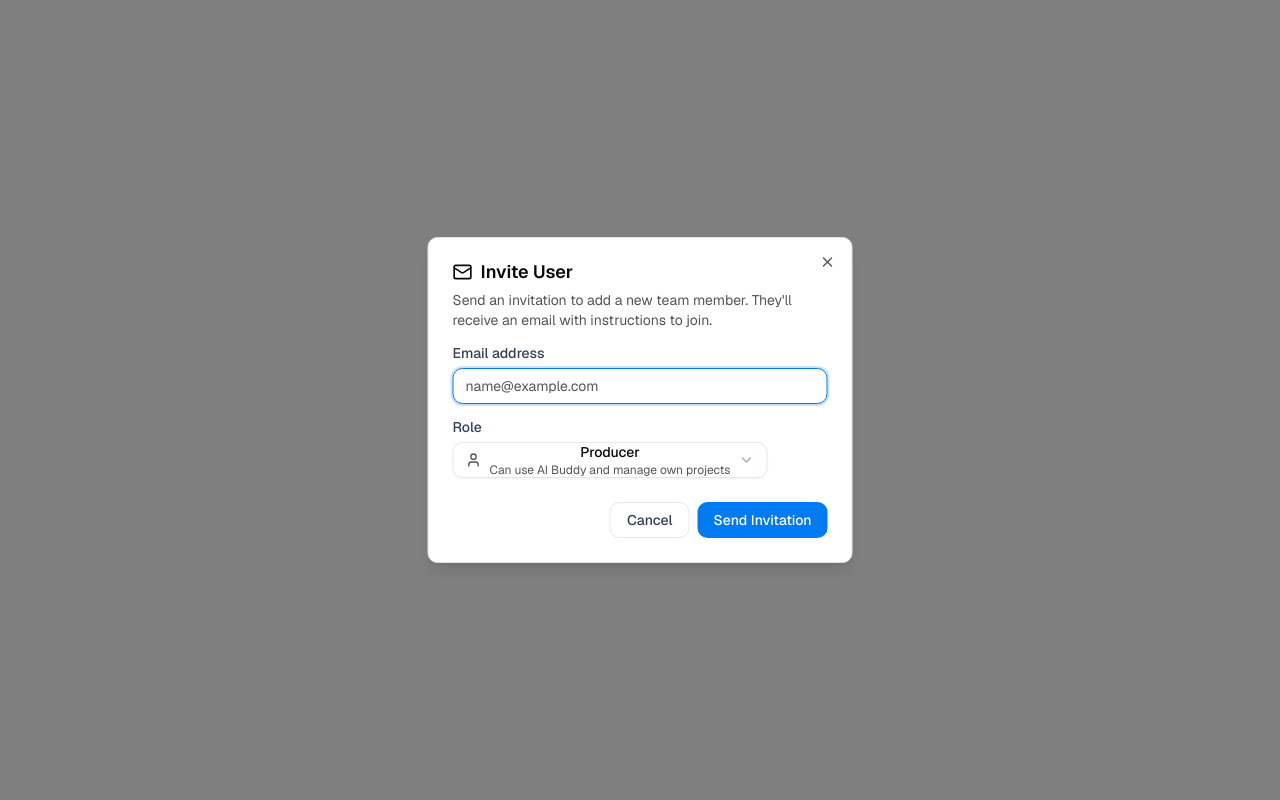
it: InviteUserDialog › Form Behavior › shows error message when invitation fails
The width and height of the screenshot is (1280, 800).
Type "test@example.com" into the field with test id "invite-email-input" at (640, 386), box x1=452 y1=368 x2=828 y2=404
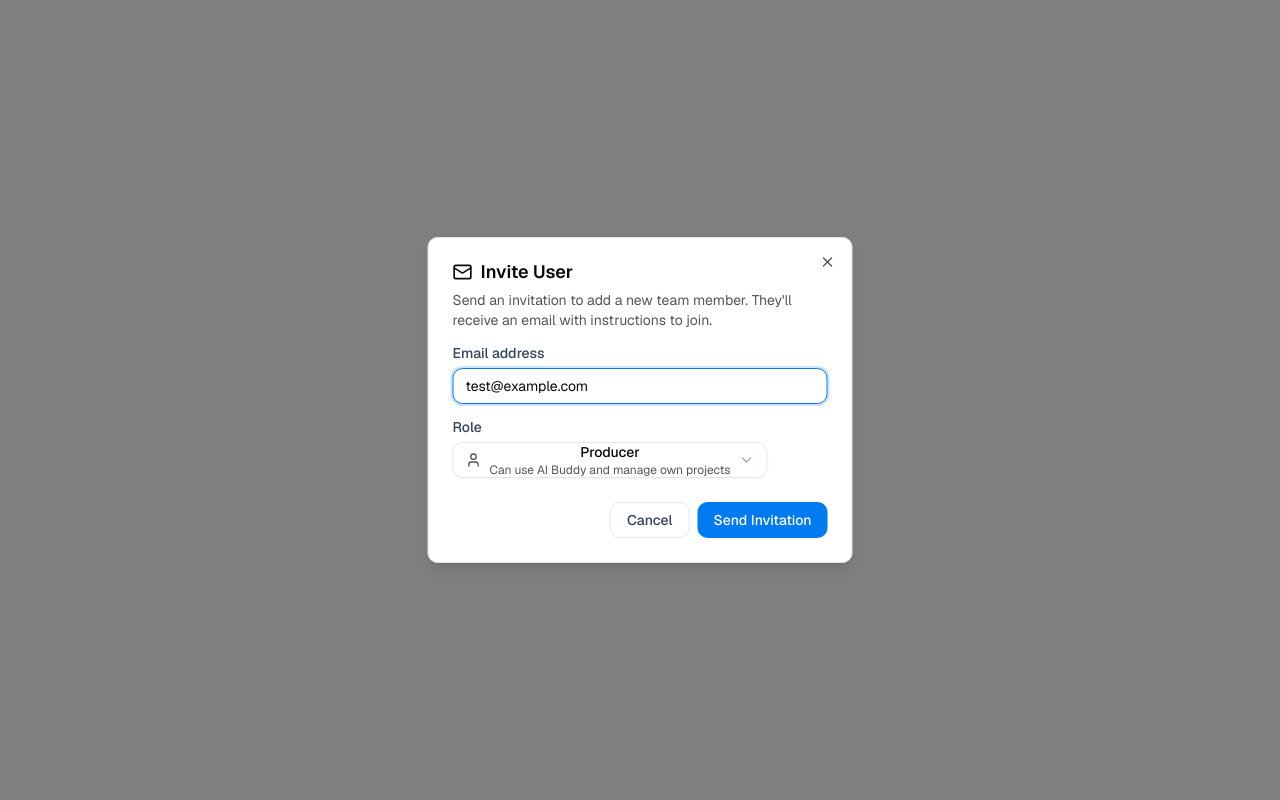
Click the button with test id "invite-submit-button" at (762, 520), box x1=698 y1=502 x2=828 y2=538
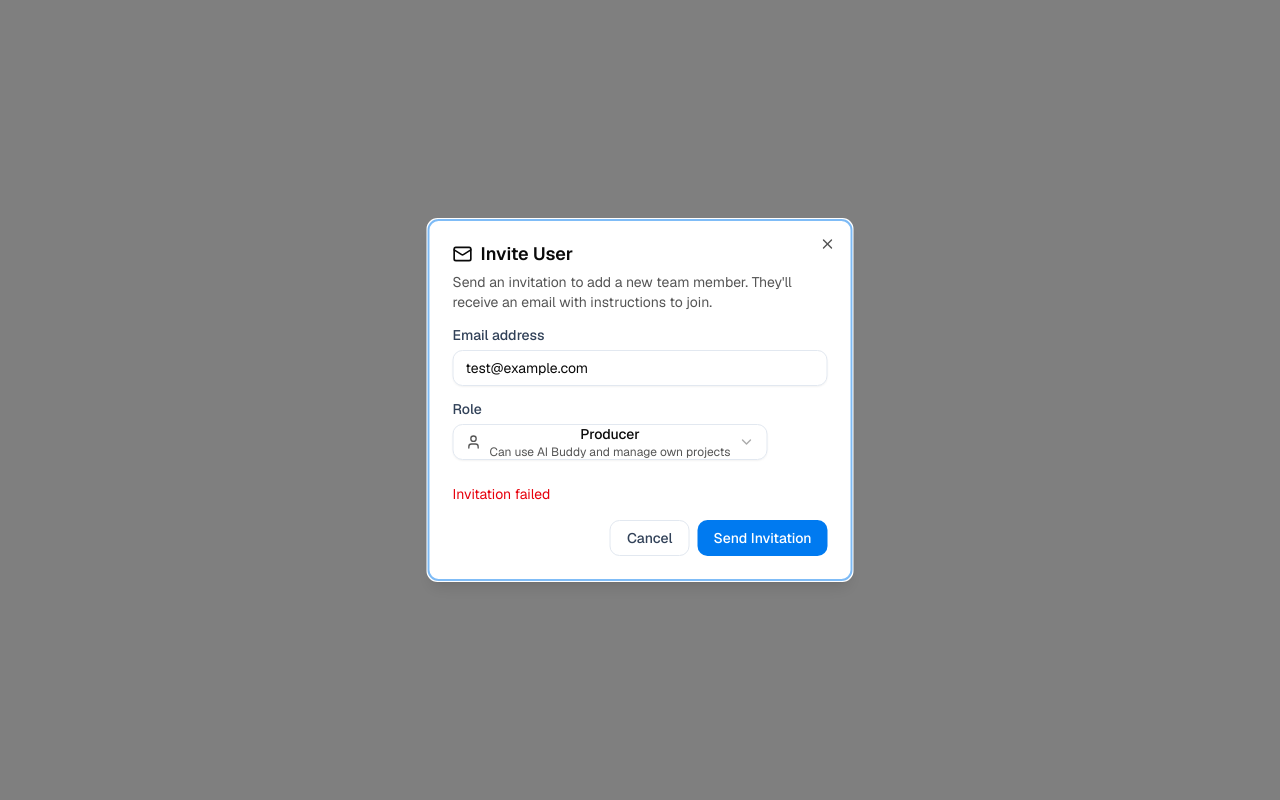
Expected: the text "Invitation failed" is shown, x1=452 y1=485 x2=550 y2=503
